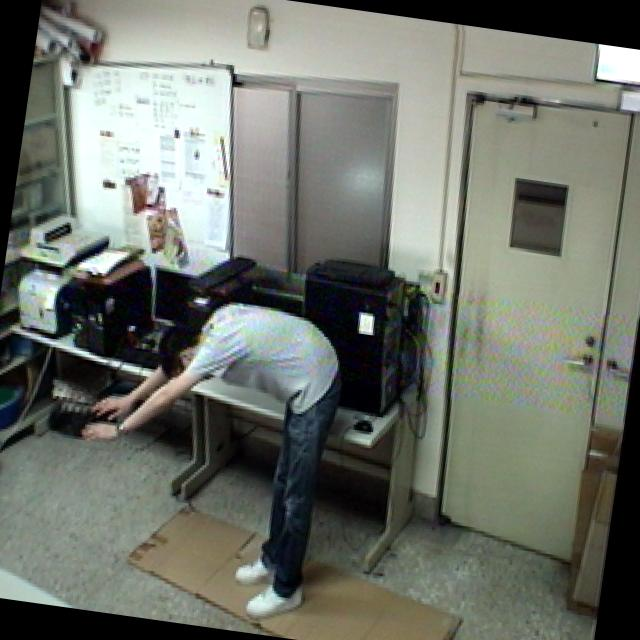bend: (56, 274, 358, 632)
